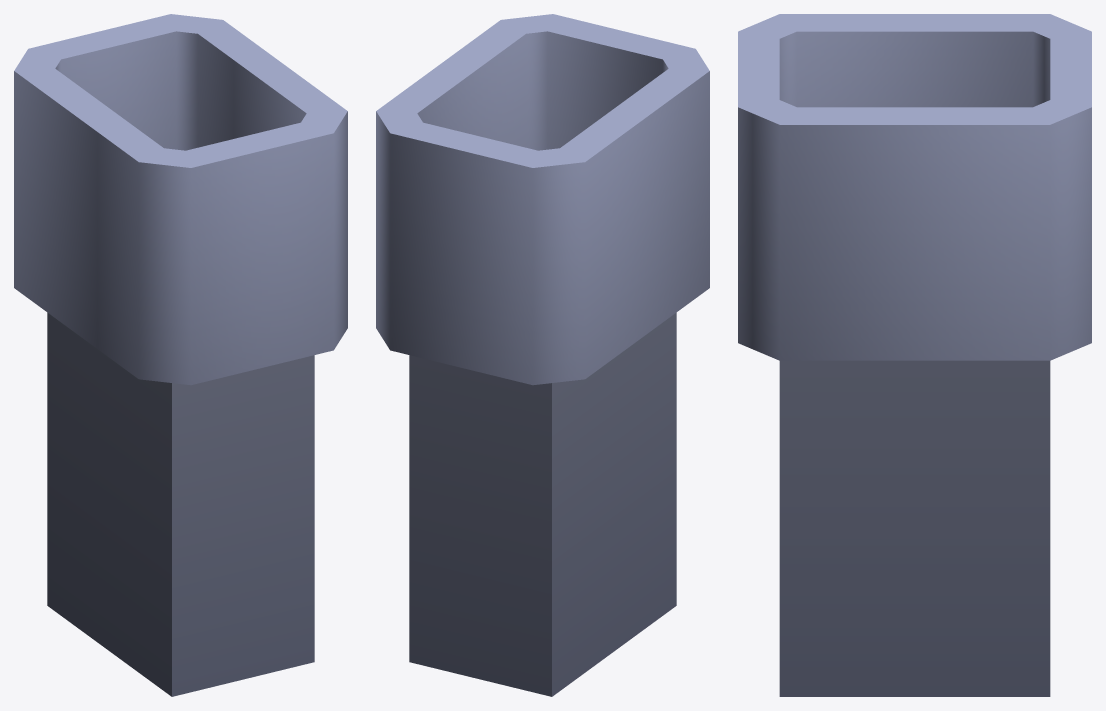
File: chimney-top.glb
3 views of the same model, side by side, from view 1: azimuth 30°, elevation 25°; view 2: azimuth 150°, elevation 25°; view 3: azimuth 270°, elevation 25° (orthographic). The views are drawn at different scales.
Parts seen in each view (by area): view 1: chimney-top; view 2: chimney-top; view 3: chimney-top.
Part boxes in pixels (x1,y1,x2,y2): chimney-top: (14,14,347,696); chimney-top: (376,14,709,696); chimney-top: (738,14,1091,696).
Size of the model in its own units: 0.2519 by 0.625 by 0.34.
Materials: 1 (1 with a texture image).
